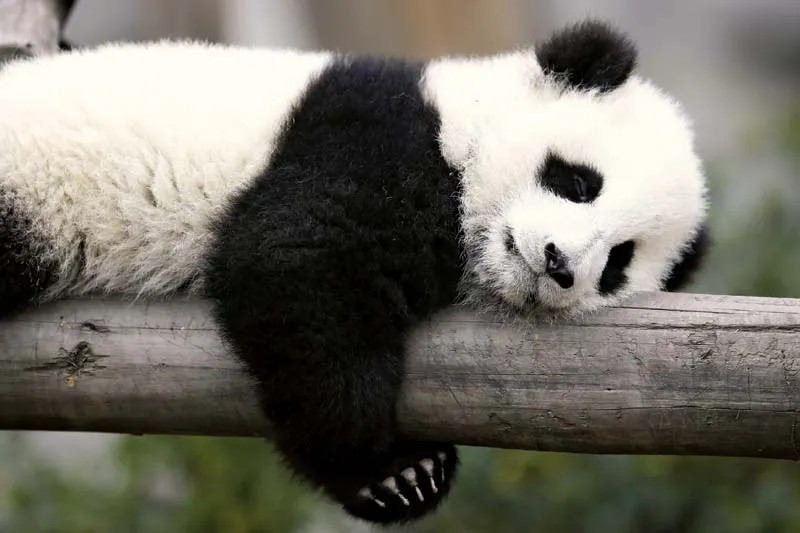Giant panda: (452, 18, 719, 325)
